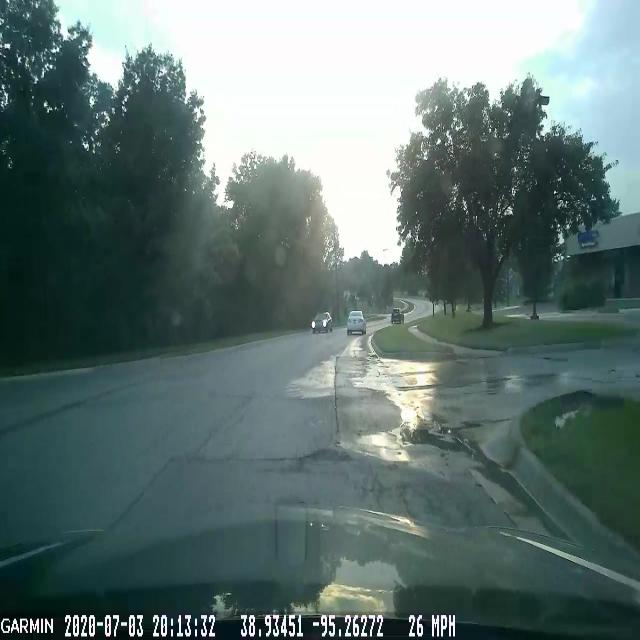Pothole: (299, 436, 357, 472)
